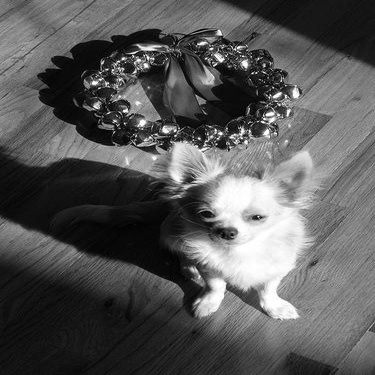dog: (42, 135, 322, 323)
